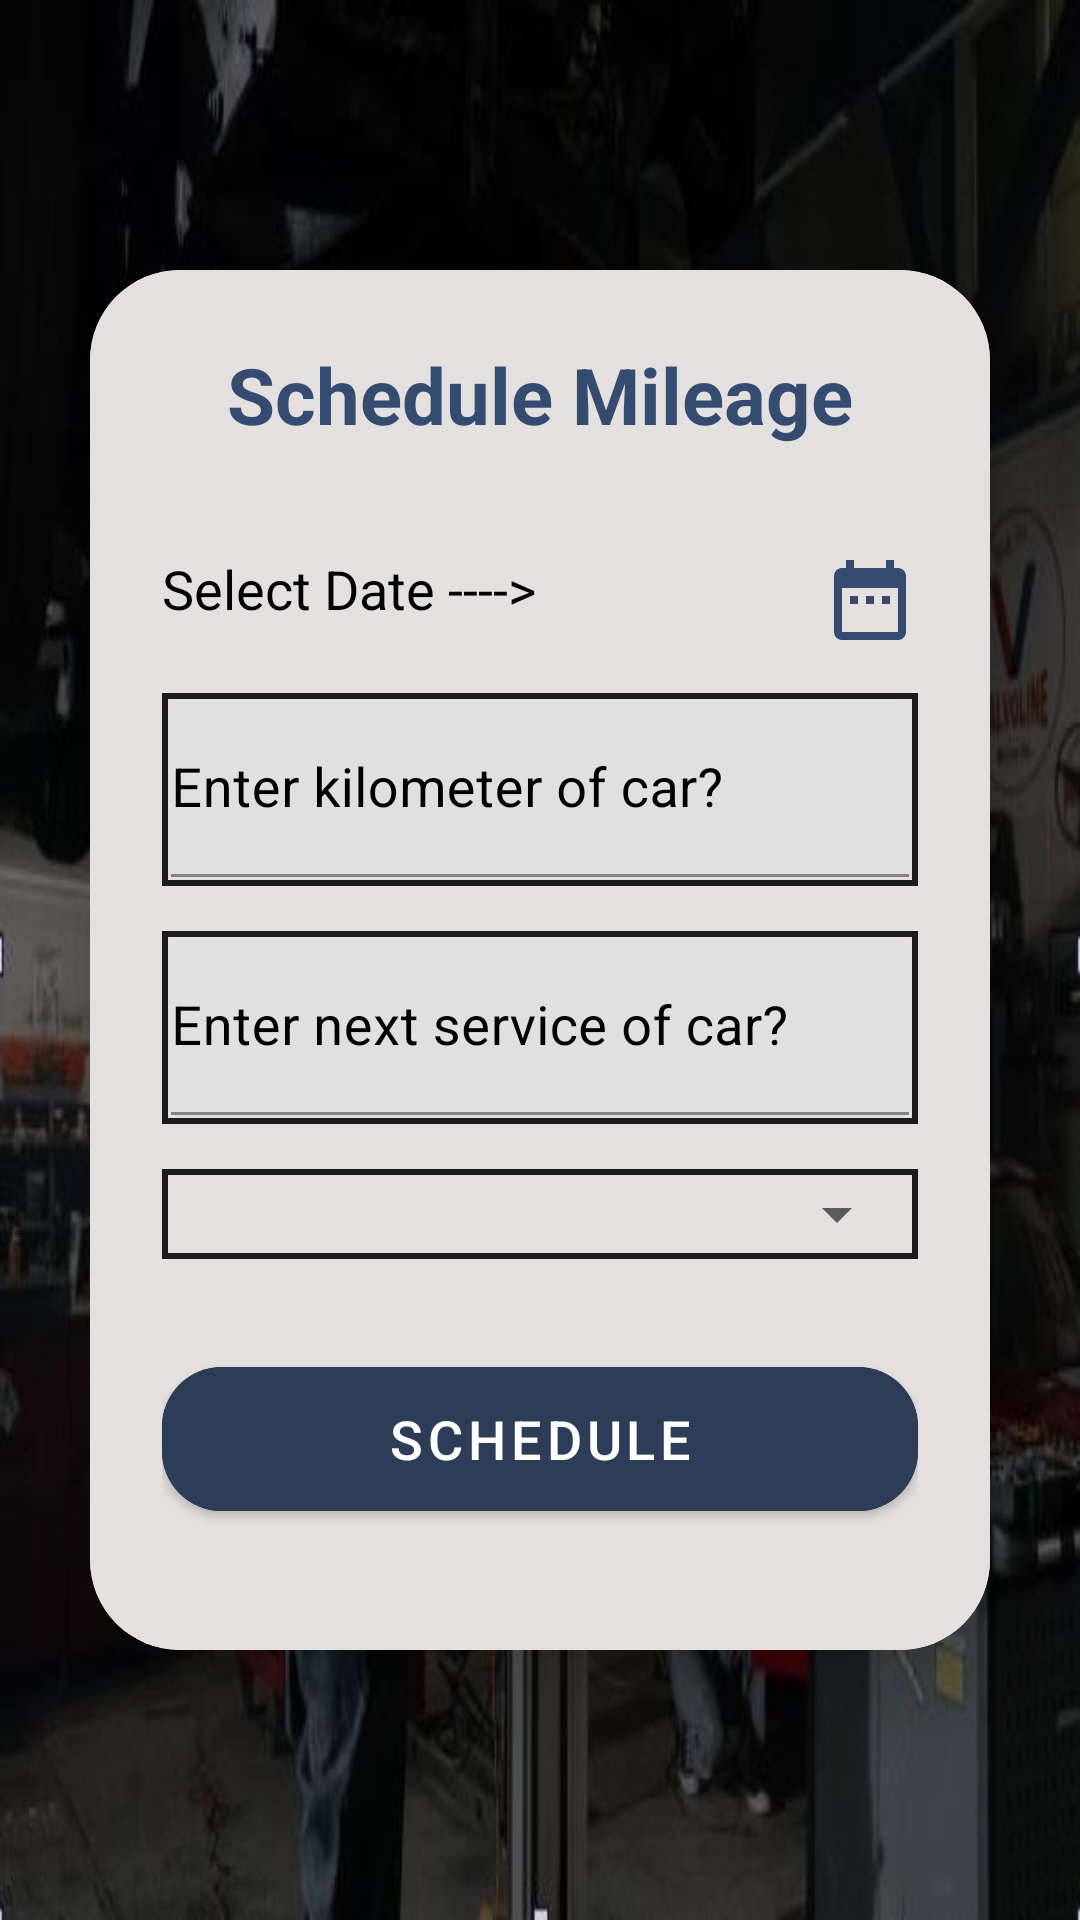

Screen size 1080w x 1920h. Icon name, then its center in pixels as (x,y):
calendar: (870,600)
